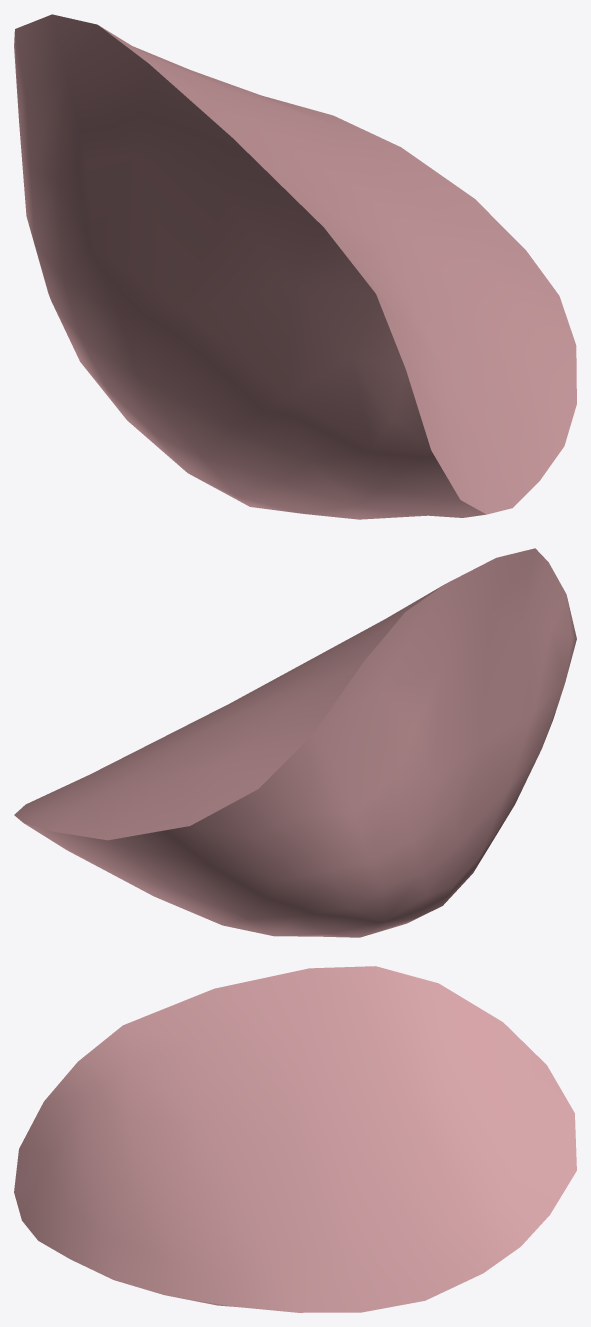
The model's file is fma82511_mm1604.glb.
The picture shows the model from 3 angles, top to bottom: view 1: azimuth 30°, elevation 25°; view 2: azimuth 150°, elevation 25°; view 3: azimuth 270°, elevation 25°; orthographic projection. The views are drawn at different scales.
Parts seen in each view (by area): view 1: FMA82511_MM1604; view 2: FMA82511_MM1604; view 3: FMA82511_MM1604.
Part boxes in pixels (x1,y1,x2,y2): FMA82511_MM1604: [14, 14, 576, 519]; FMA82511_MM1604: [14, 548, 576, 937]; FMA82511_MM1604: [14, 966, 576, 1312].
Bounding box in the file's own units: 0.00994 × 0.00928 × 0.0167.
